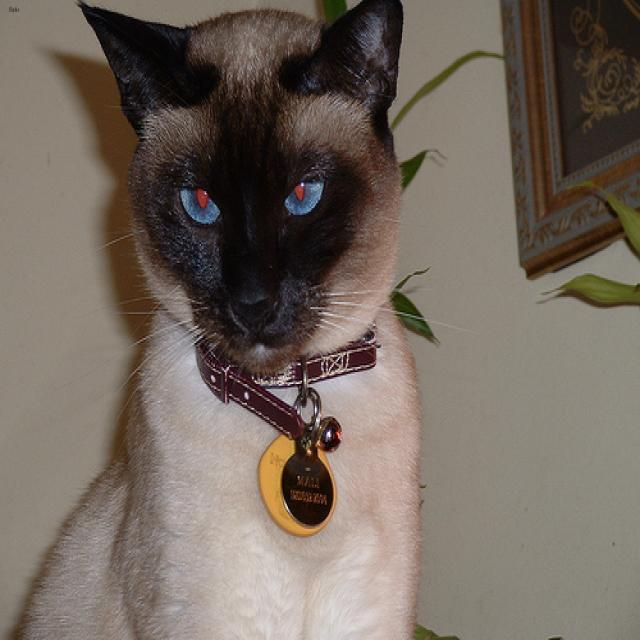Siamese: (77, 0, 402, 367)
